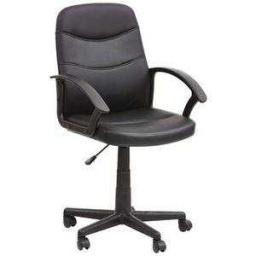Chair: (55, 1, 207, 255)
